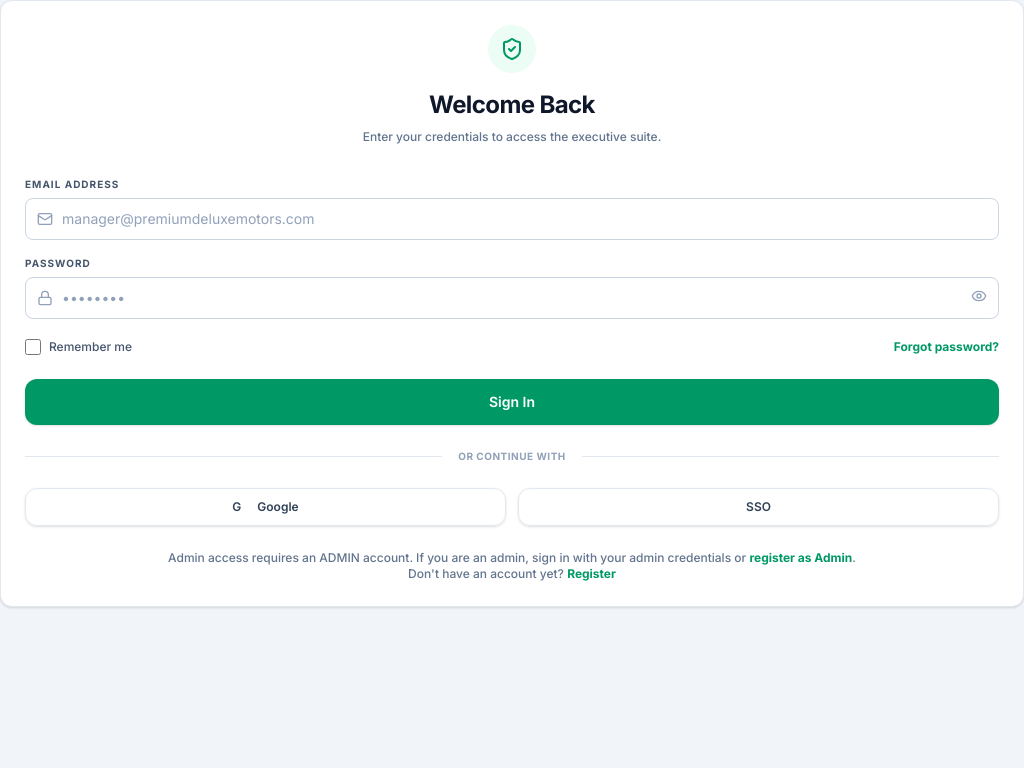
Test: LoginPage › shows an invalid credentials error
Type "error@premiumdeluxemotors.com" into the field labelled "EMAIL ADDRESS" at (512, 219), box [25,198,999,240]
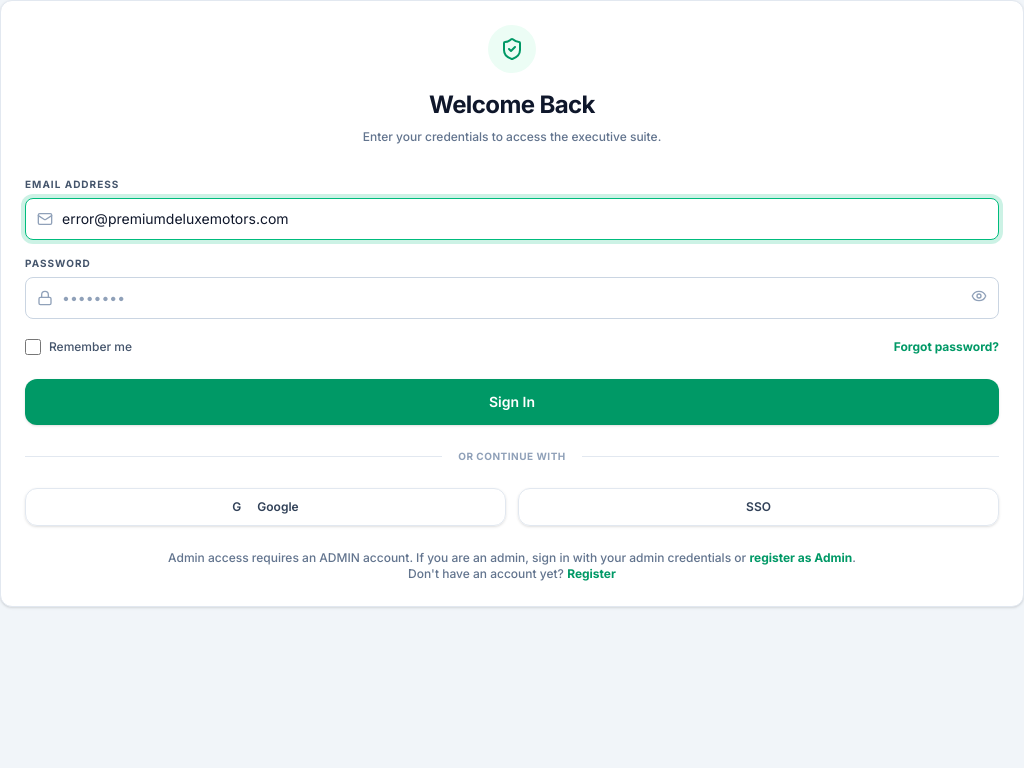
Type "strongpassword" into the password field labelled "PASSWORD" at (512, 298), box [25,277,999,319]
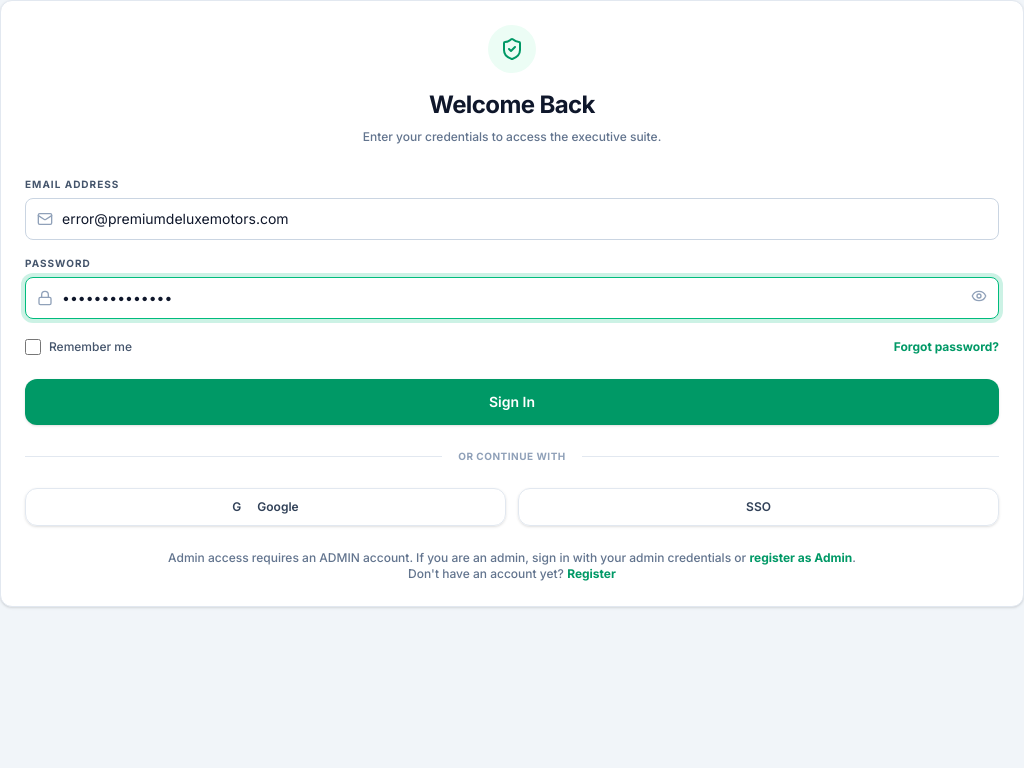
Click the button "Sign In" at (512, 402), box [25,379,999,425]
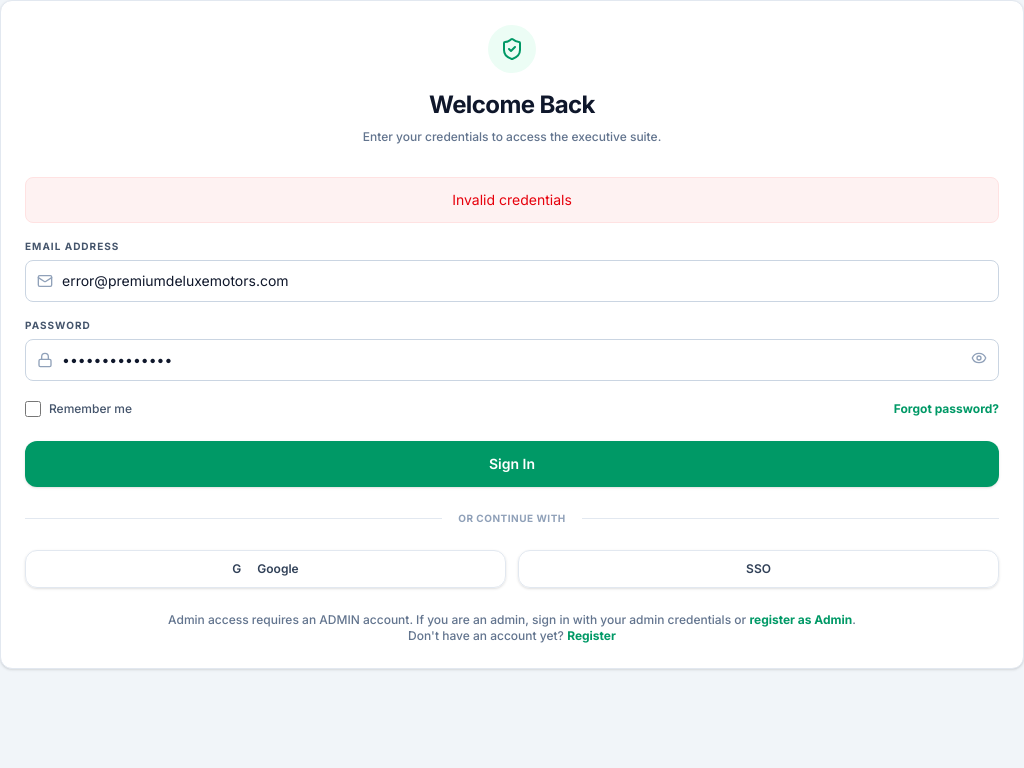
Check: the text "Invalid credentials" is shown, box [25,177,999,223]
